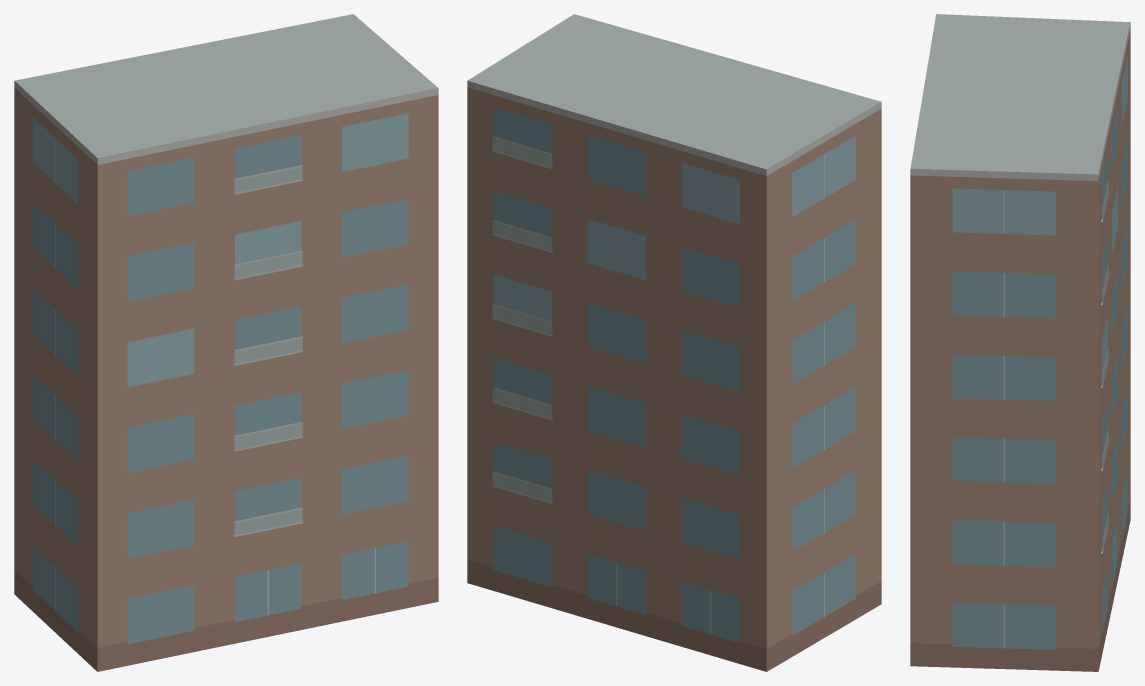
The model's file is survey-upis-32881342.glb.
3 renders of one model, left to right at view 1: azimuth 30°, elevation 25°; view 2: azimuth 150°, elevation 25°; view 3: azimuth 270°, elevation 25°, orthographic. The views are drawn at different scales.
Visible parts, largest first — view 1: survey-upis-32881342.tmp; view 2: survey-upis-32881342.tmp; view 3: survey-upis-32881342.tmp.
Part boxes in pixels (bbox=[...]): survey-upis-32881342.tmp: bbox=[14, 14, 438, 671]; survey-upis-32881342.tmp: bbox=[467, 14, 881, 671]; survey-upis-32881342.tmp: bbox=[910, 14, 1130, 671].
Size of the model in its own units: 12.68 by 18.3 by 7.35.
